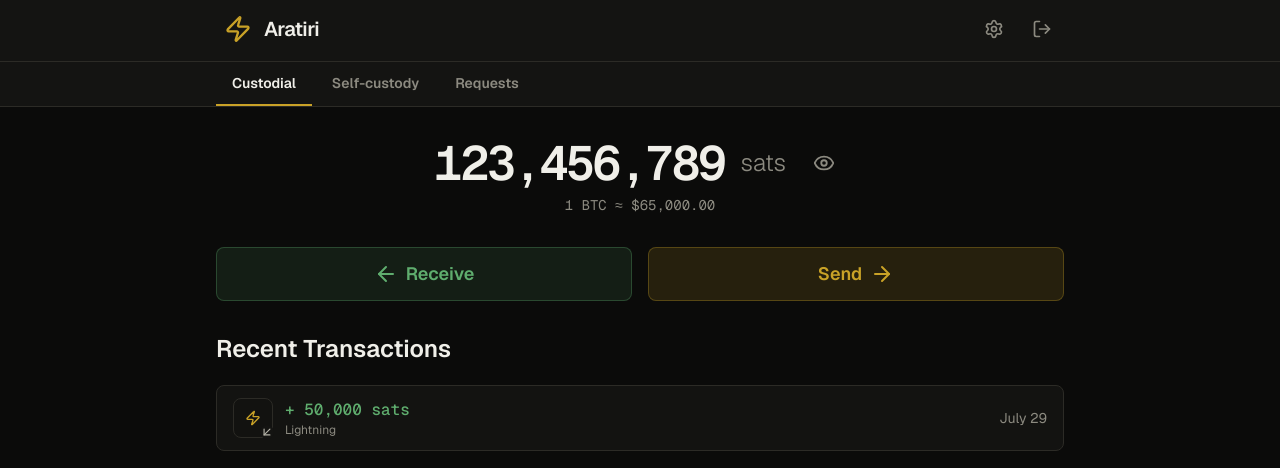
Test: Dashboard currency display polish › formats non-zero sats and btc in the hero and shows spot price only for those units
expect the text "1 BTC ≈ $65,000.00" is shown: met, box [565,196,715,214]
Click the button "sats".
click(763, 163)  # box [732,141,794,185]
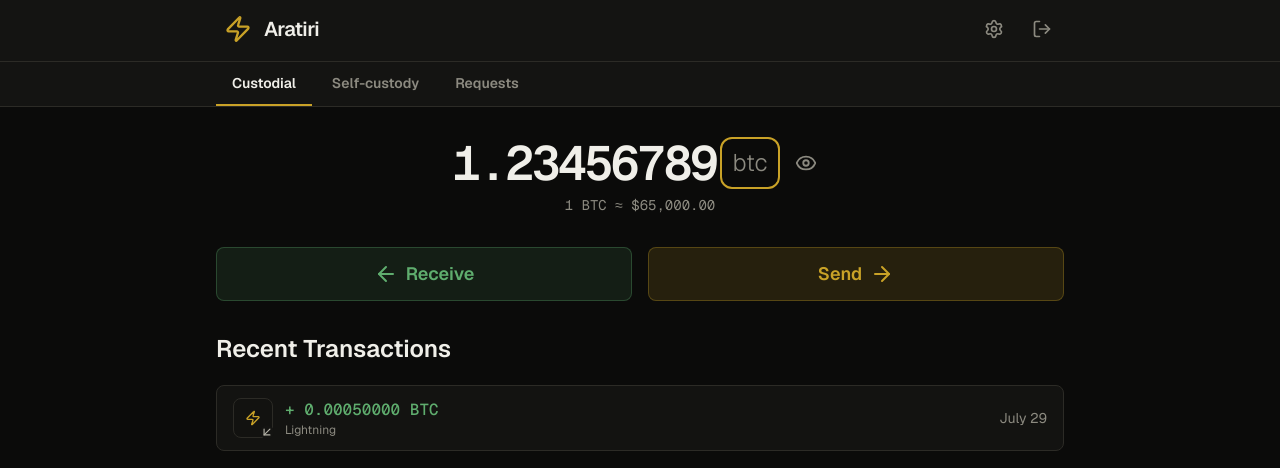
expect the text "1 BTC ≈ $65,000.00" is shown: met, box [565,196,715,214]
expect the text "1.23456789" is shown: met, box [452,139,716,187]
expect the button "btc" is shown: met
Click the button "btc".
click(750, 163)  # box [724,141,776,185]
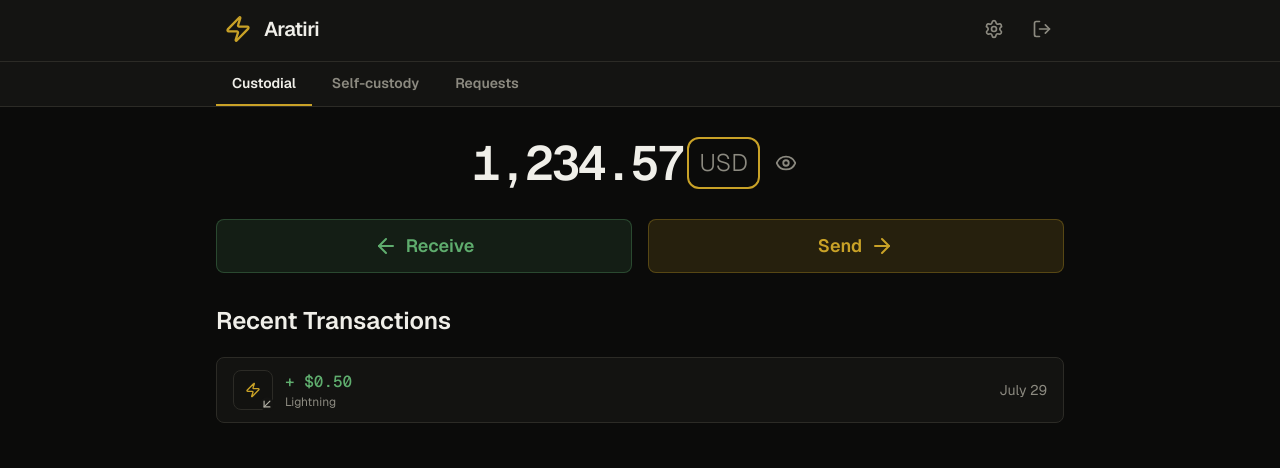
expect the button "USD" is shown: met, box [691,141,756,185]
expect the text "1 BTC ≈" is gone: met
